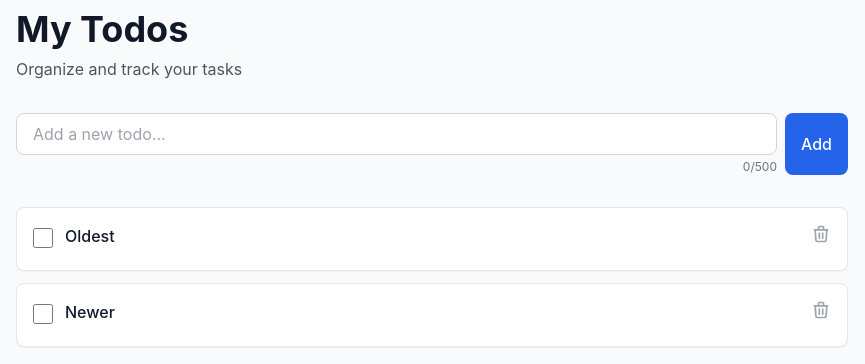
Test: App — recovering from unwritable storage › sheds the oldest todos and warns when the quota is exceeded
Expected: the heading "Oldest" is shown, x1=65 y1=226 x2=115 y2=246
Type "Third" into the field named "todo description" at (396, 134), box x1=16 y1=113 x2=777 y2=155
Then press Enter
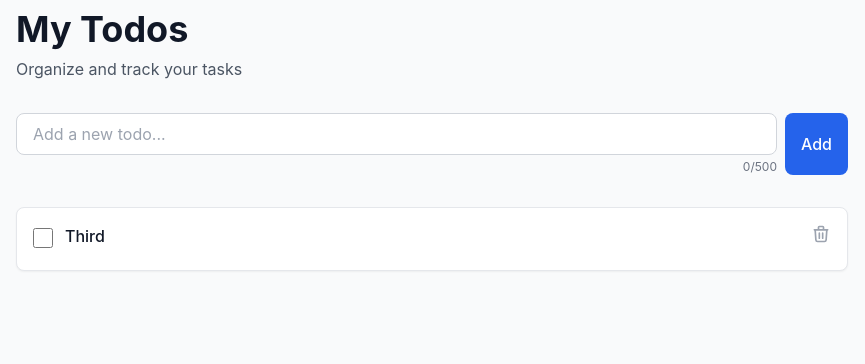
Expected: the heading "Oldest" is gone
